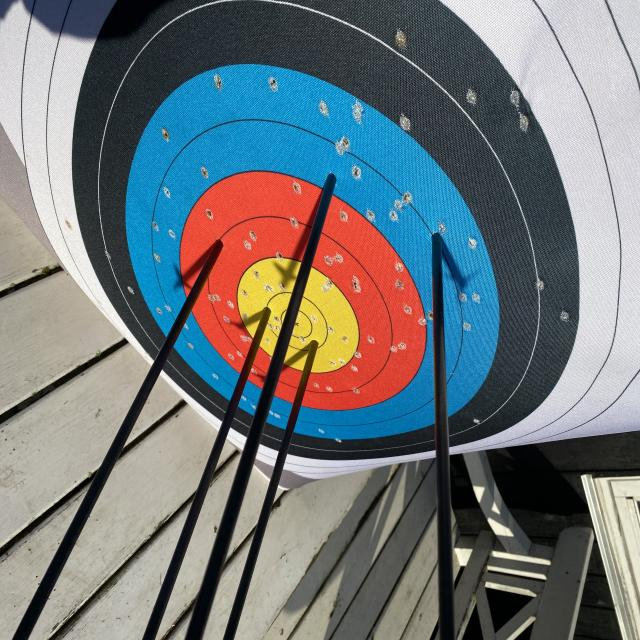Arrow_Blue: (312, 154, 360, 206), (415, 217, 464, 266)
Arrow_Red: (207, 224, 233, 269)
Arrow_Yellow: (301, 326, 331, 362), (256, 288, 276, 329)
